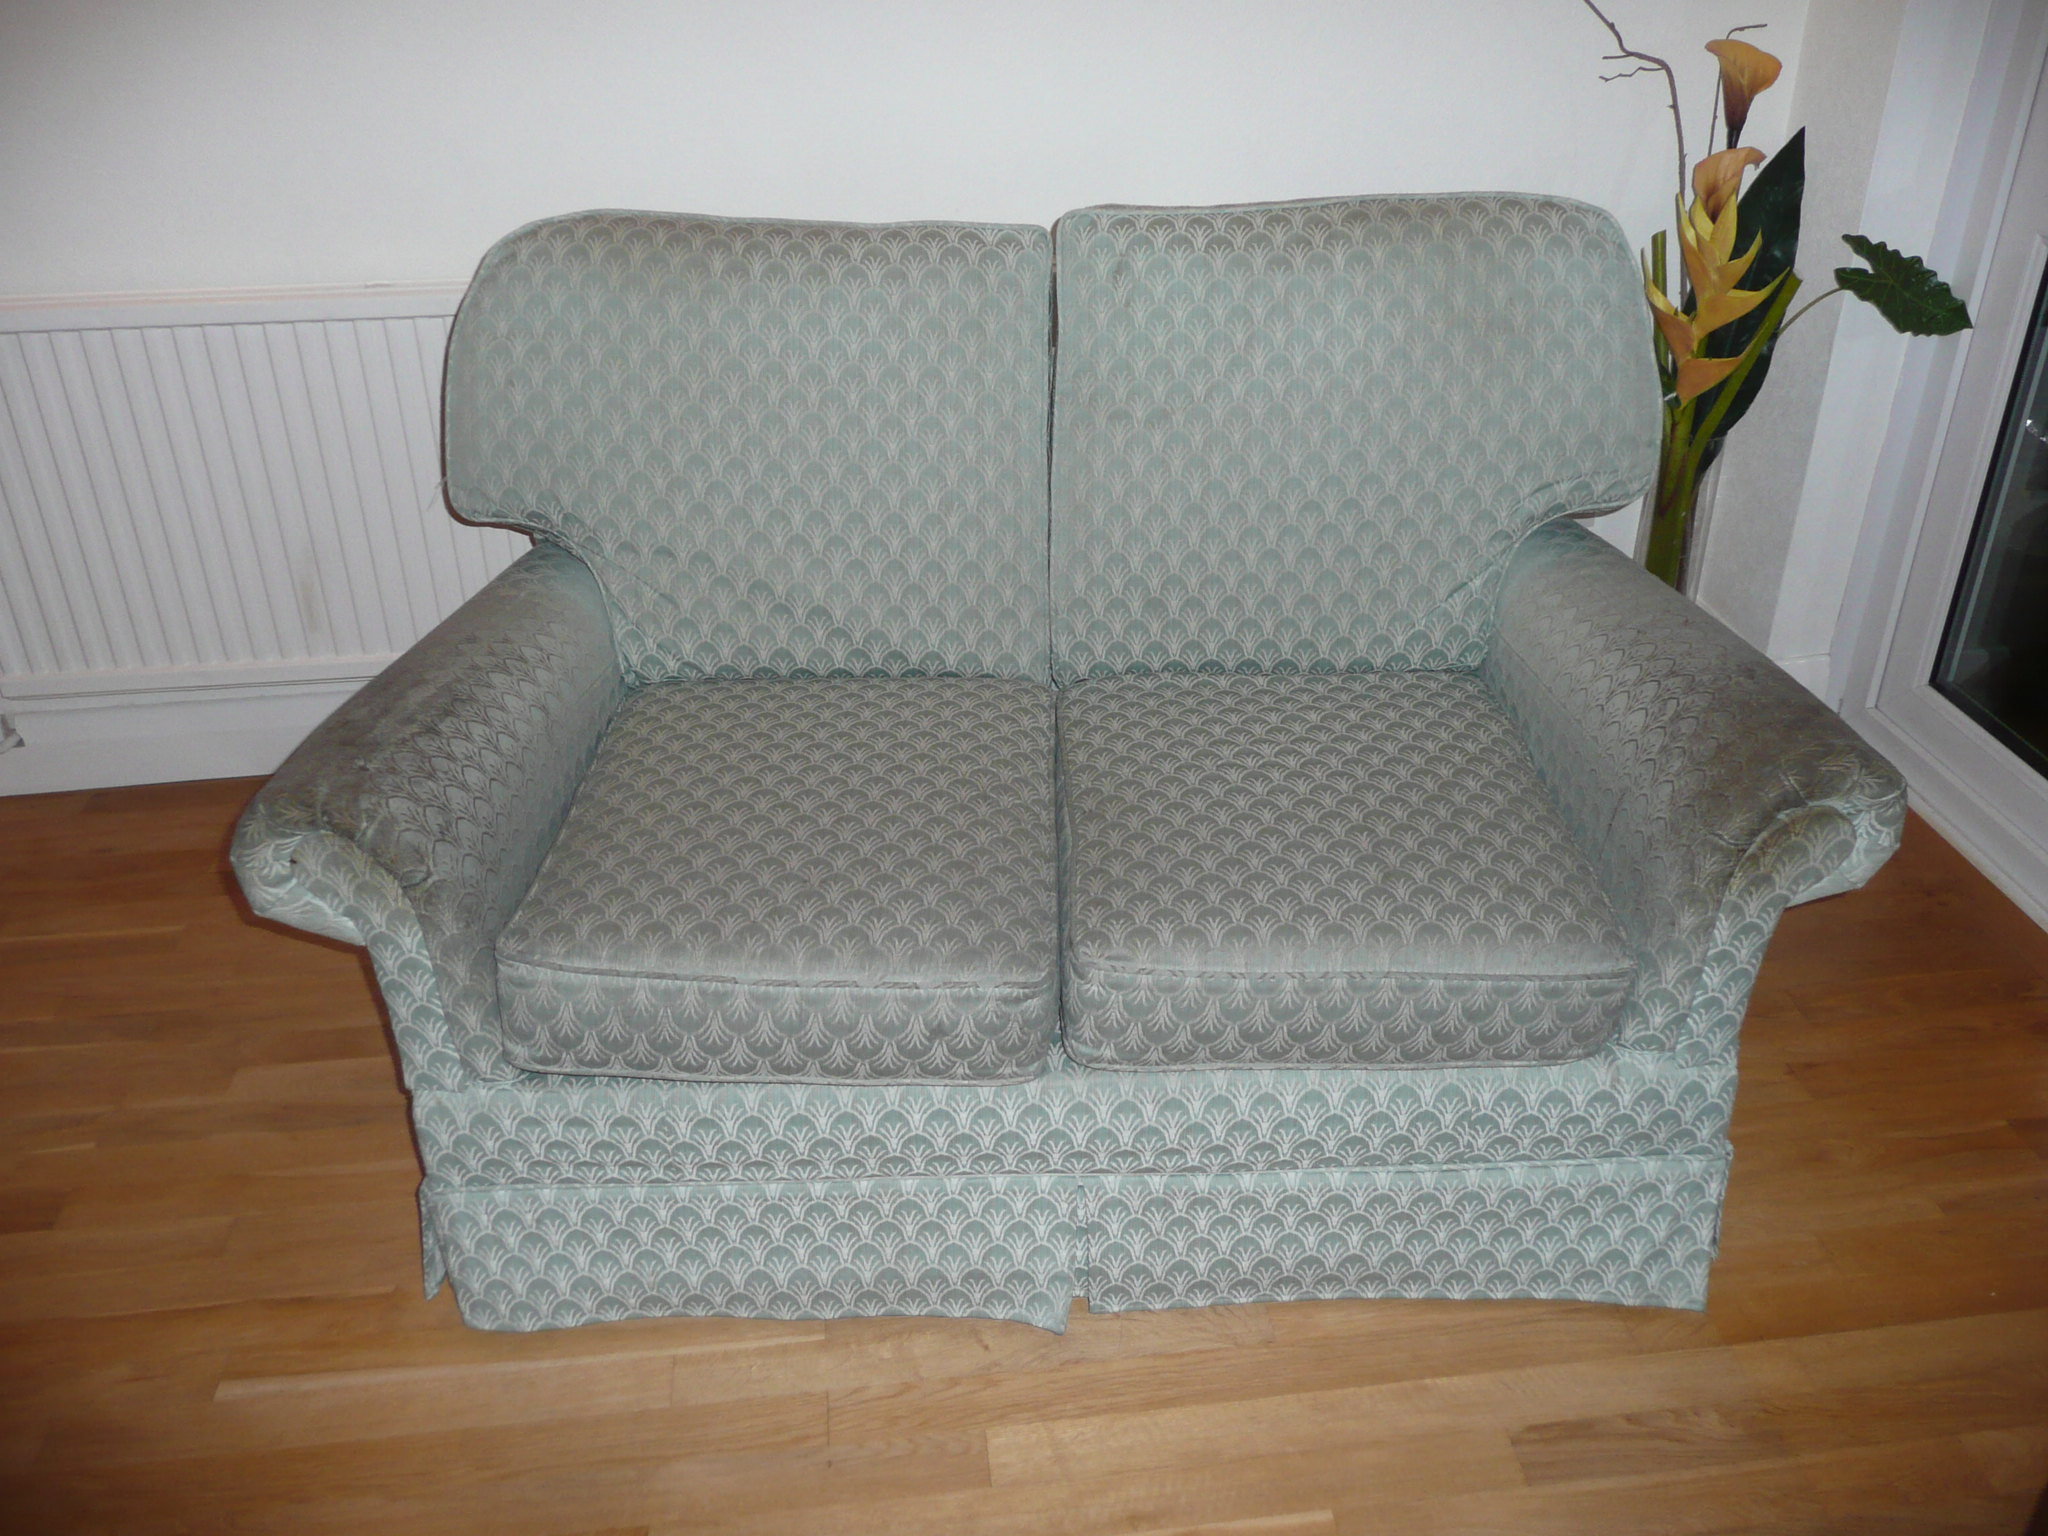sofa: (285, 216, 1893, 1355)
